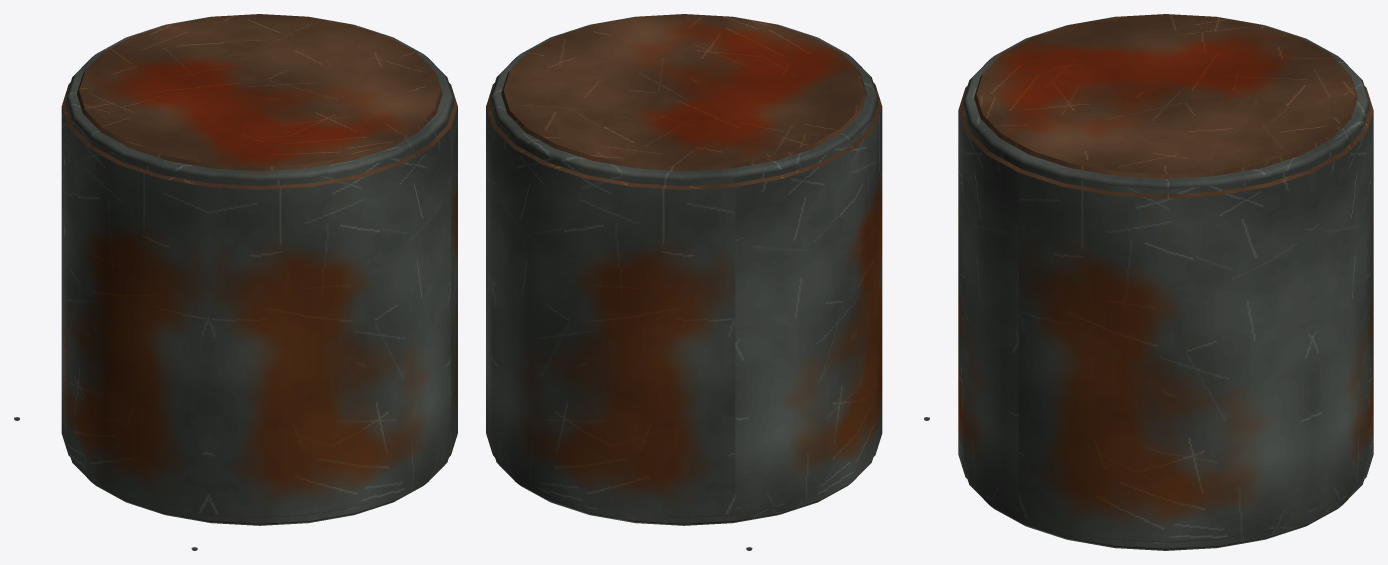
3 renders of one model, left to right at view 1: azimuth 30°, elevation 25°; view 2: azimuth 150°, elevation 25°; view 3: azimuth 270°, elevation 25°, orthographic. The views are drawn at different scales.
Visible parts, largest first — view 1: R4B_Cylinder; view 2: R4B_Cylinder; view 3: R4B_Cylinder.
Part boxes in pixels (<box>): R4B_Cylinder: <box>14,14,457,550</box>; R4B_Cylinder: <box>486,14,929,550</box>; R4B_Cylinder: <box>958,14,1373,550</box>.
Size of the model in its own units: 0.52 by 0.52 by 0.52.
4 materials, 4 textured.
